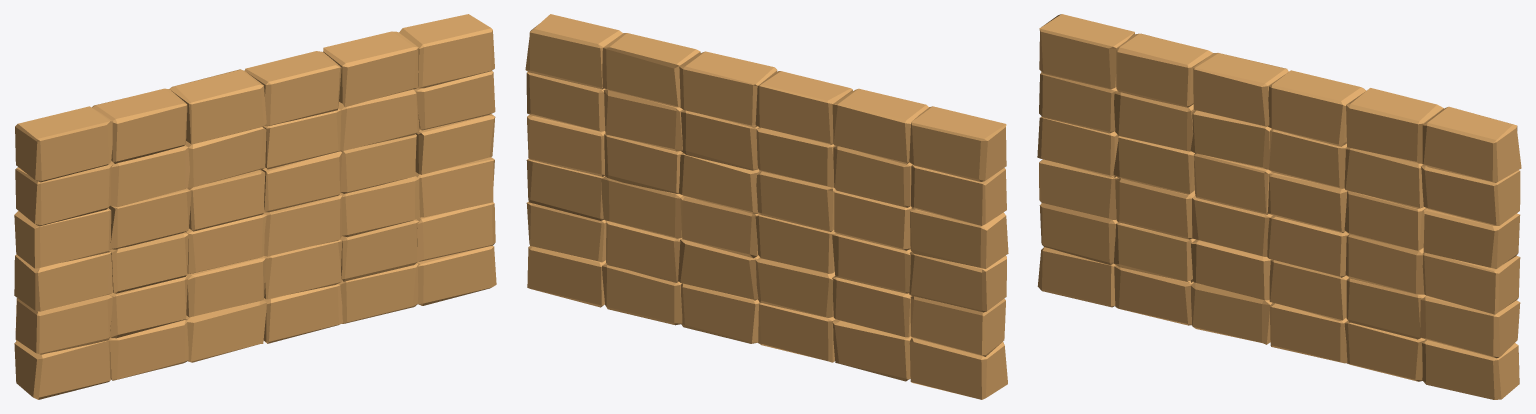
File: BrickWallEgypt1.fbx
3 views of the same model, side by side, from view 1: azimuth 30°, elevation 25°; view 2: azimuth 150°, elevation 25°; view 3: azimuth 330°, elevation 25° (orthographic).
Visible parts, largest first — view 1: iNDOOR; view 2: iNDOOR; view 3: iNDOOR.
Part boxes in pixels (x1,y1,x2,y2): iNDOOR: (14,14,496,399); iNDOOR: (525,14,1008,399); iNDOOR: (1037,14,1521,399).
Size of the model in its own units: 1456 by 791 by 133.
